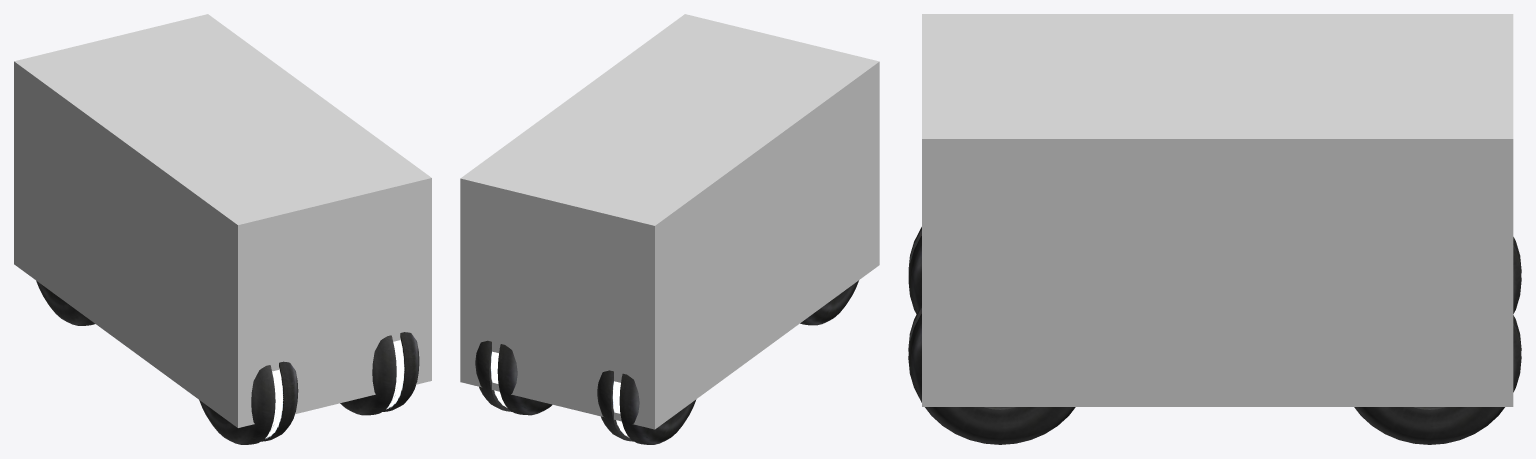
Rendered from carUpdate.glb.
3 views of the same model, side by side, from view 1: azimuth 30°, elevation 25°; view 2: azimuth 150°, elevation 25°; view 3: azimuth 270°, elevation 25° (orthographic). The views are drawn at different scales.
Visible parts, largest first — view 1: cube.001, wheelBL, wheelBR, wheelTL; view 2: cube.001, wheelTL, wheelTR, wheelBL; view 3: cube.001, wheelBR, wheelTR, wheelBL.
Boxes of the visible parts, <box> form: cube.001: <box>14,14,431,427</box>; wheelBL: <box>199,361,298,444</box>; wheelBR: <box>340,332,419,415</box>; wheelTL: <box>36,280,94,325</box>; cube.001: <box>460,14,879,429</box>; wheelTL: <box>597,370,696,444</box>; wheelTR: <box>475,340,552,415</box>; wheelBL: <box>800,280,858,325</box>; cube.001: <box>922,14,1513,406</box>; wheelBR: <box>908,304,1075,444</box>; wheelTR: <box>1354,315,1521,444</box>; wheelBL: <box>908,227,921,313</box>.
Size of the model in its own units: 2 by 2.4 by 4.15.
3 materials, 2 textured.
